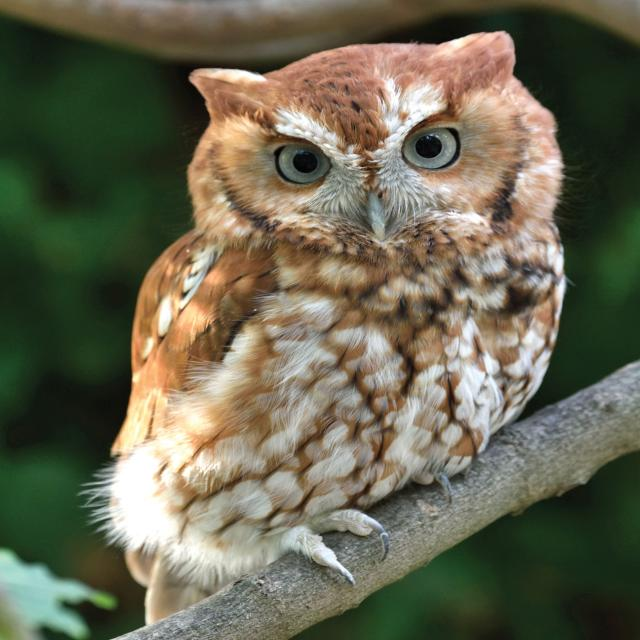Owl: (68, 19, 574, 608)
